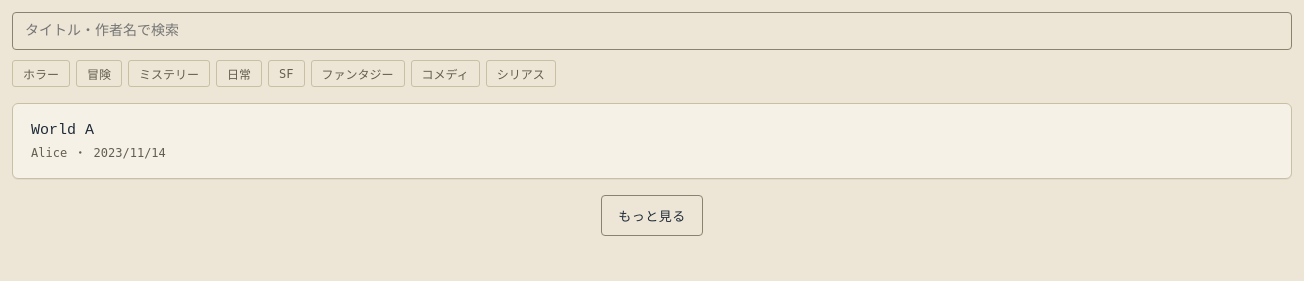
Test: PublicItemList › "もっと見る" fetches offset 20 and appends items (does not replace)
Expected: the button "World A" is shown, [31,122,94,139]
Click the button "もっと見る": (652, 216) [601,195,703,236]
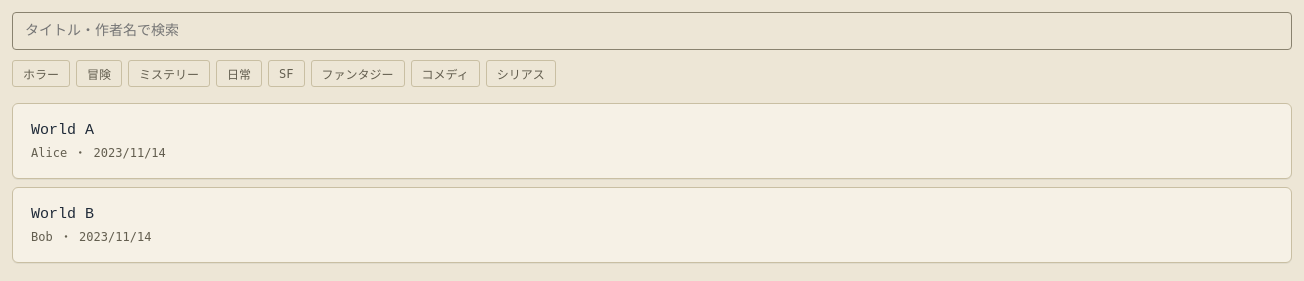
Expected: the button "World A" is shown, [31,122,94,139]
Expected: the button "World B" is shown, [31,206,94,223]
Expected: the button "もっと見る" is gone
